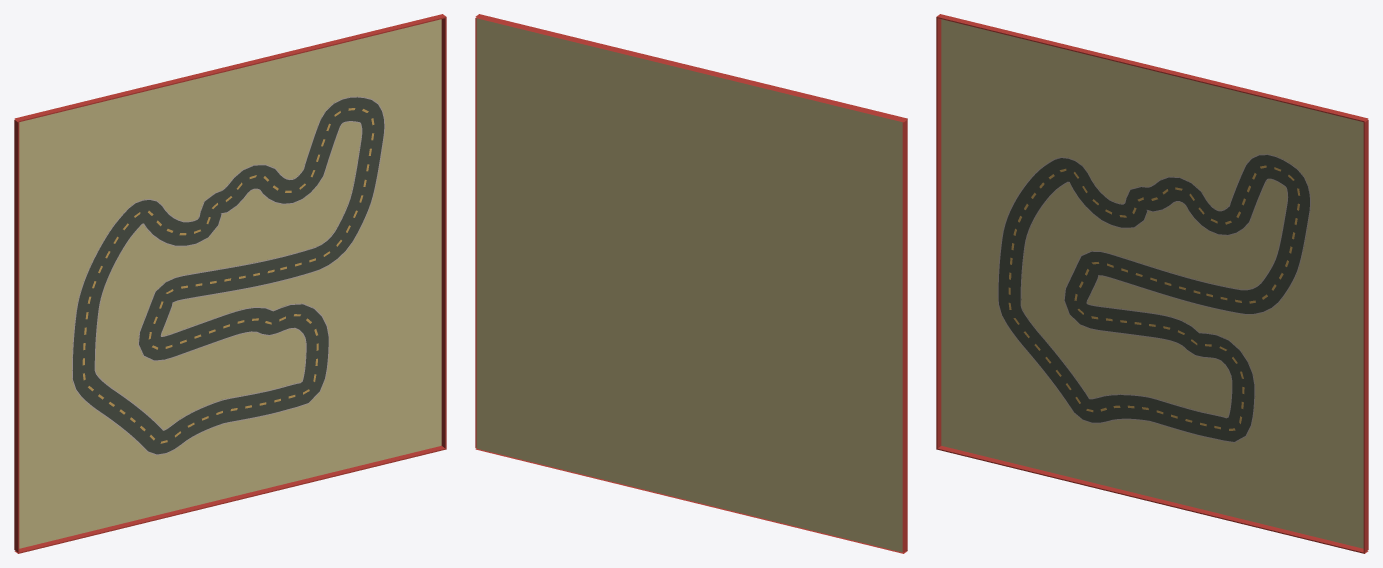
The model's file is track.obj.
3 renders of one model, left to right at view 1: azimuth 30°, elevation 25°; view 2: azimuth 150°, elevation 25°; view 3: azimuth 330°, elevation 25°, orthographic.
Size of the model in its own units: 19.24 by 18.57 by 0.3.
Materials: 5 (5 with a texture image).
